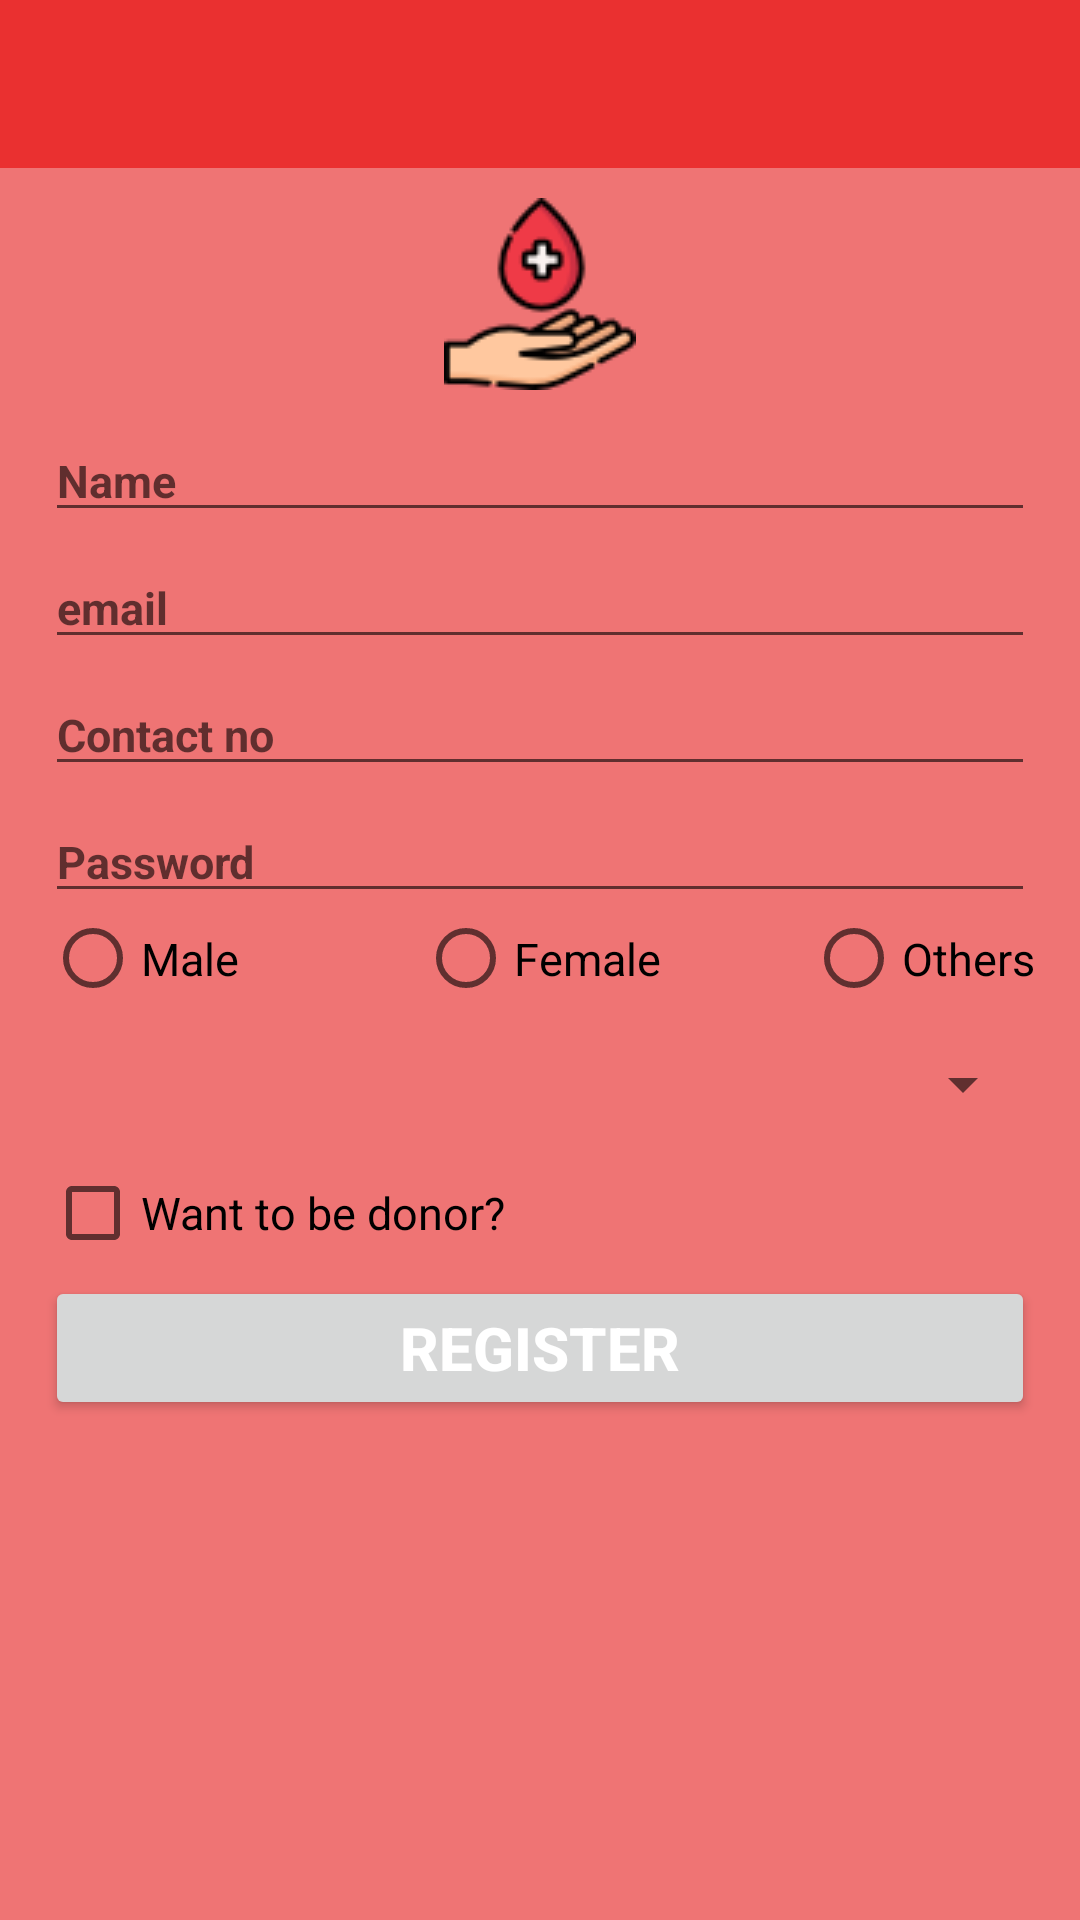

Where icons sit on this 1080px×1920px app screen, as (x1, y1, x2, y2):
blood donate: (444, 198, 636, 390)
